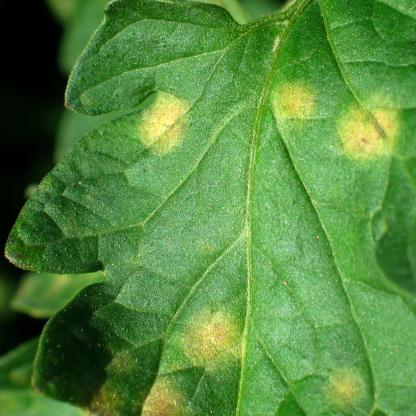Tomato mold leaf: (9, 5, 411, 416)
